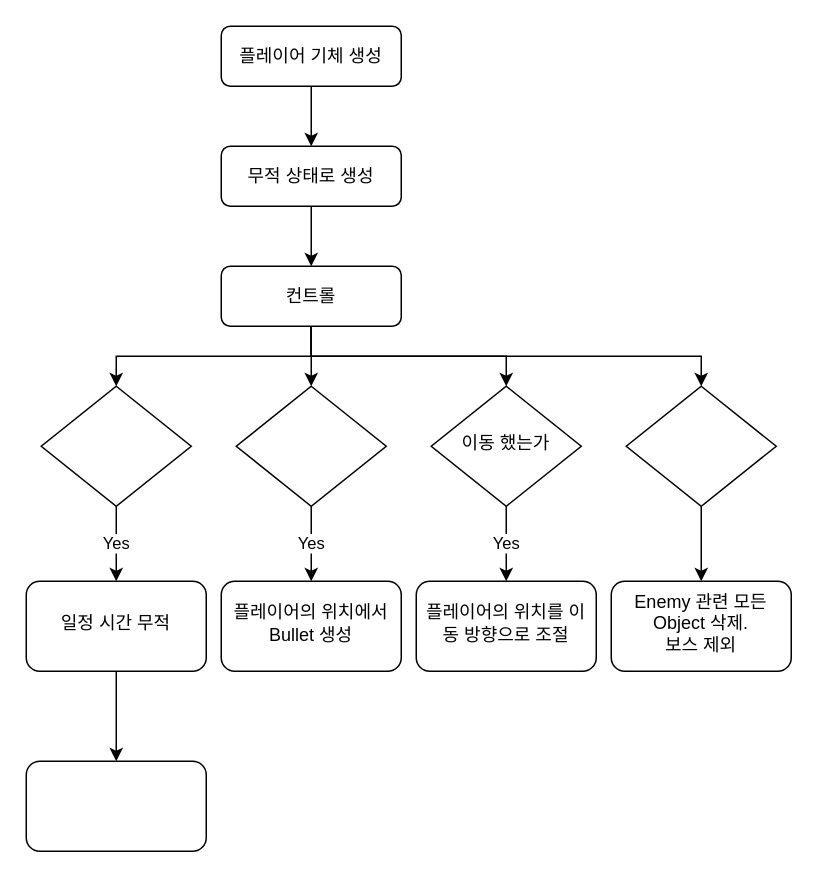
The diagram is 818 pixels wide and 878 high, and some of its shapes have lost their labels. Here are the shapes that lost their labels. From the top down, the centre of each, then its label:
(115,445): 피격 했는가
(310,445): 공격 했는가
(700,445): 폭탄을 사용했는가
(115,805): 플레이어 공격력 감소
